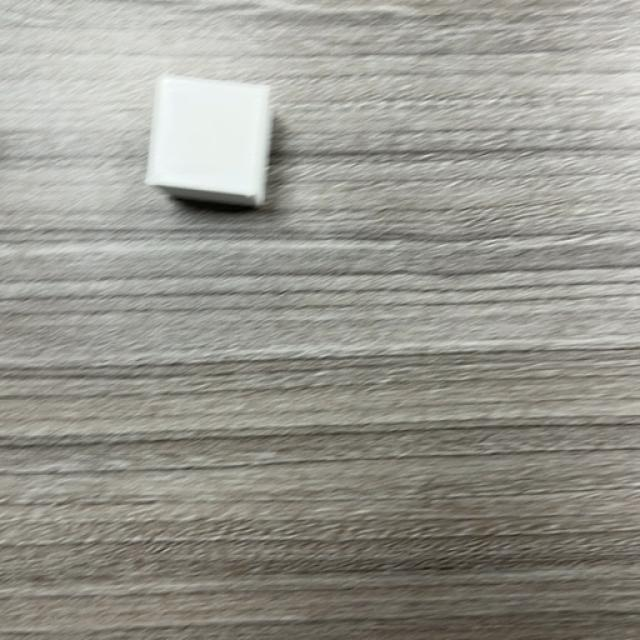Blanco: (145, 76, 272, 211)
